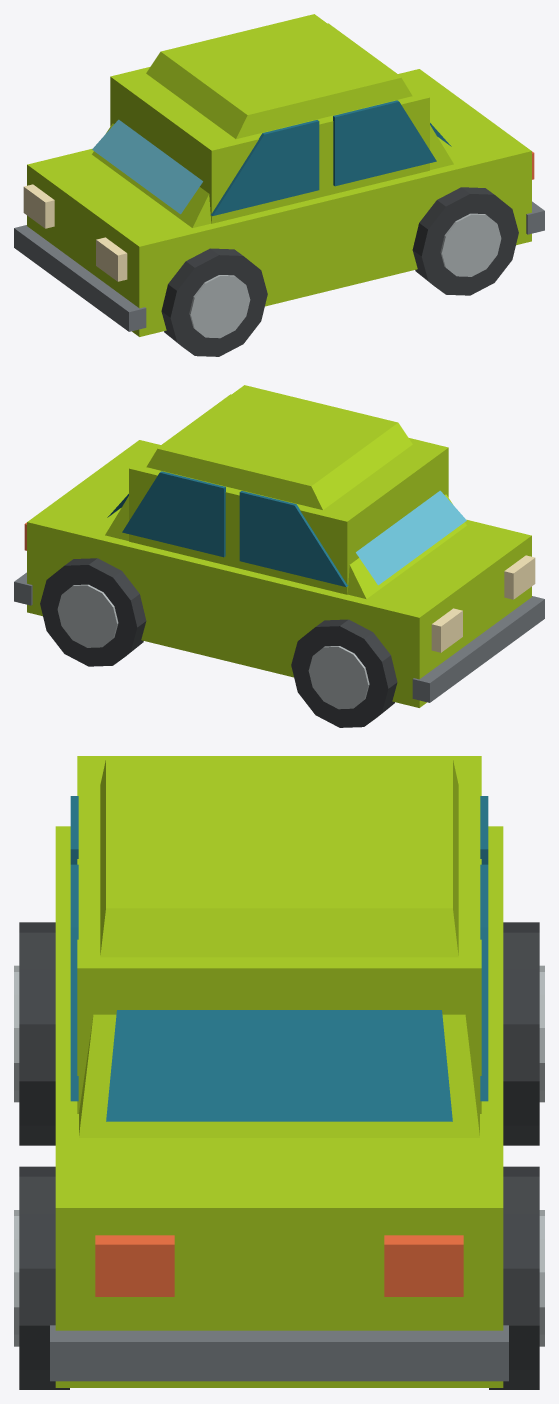
File: Car_Green.glb
3 views of the same model, one above another, from view 1: azimuth 30°, elevation 25°; view 2: azimuth 150°, elevation 25°; view 3: azimuth 270°, elevation 25° (orthographic). The views are drawn at different scales.
Parts seen in each view (by area): view 1: Car_Green; view 2: Car_Green; view 3: Car_Green.
Part boxes in pixels (bbox=[...]): Car_Green: bbox=[14, 14, 544, 356]; Car_Green: bbox=[14, 385, 544, 727]; Car_Green: bbox=[14, 756, 544, 1389].
Size of the model in its own units: 2.66 by 1.3 by 1.47.
